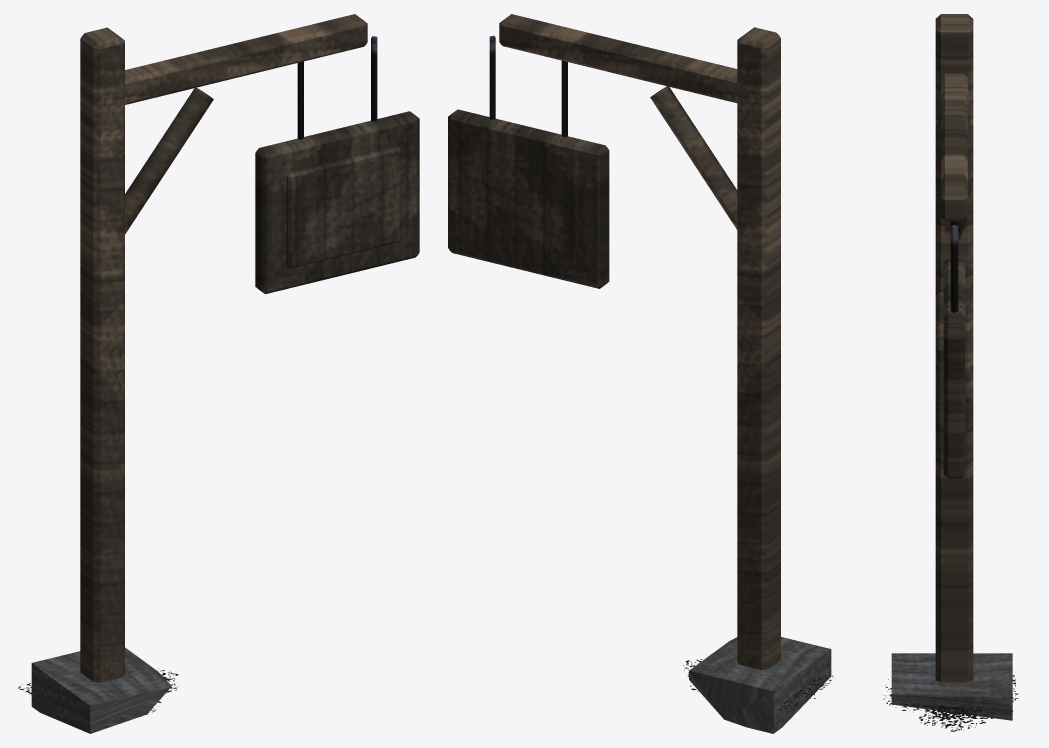
Rendered from signpost.glb.
The picture shows the model from 3 angles, left to right: view 1: azimuth 30°, elevation 25°; view 2: azimuth 150°, elevation 25°; view 3: azimuth 270°, elevation 25°; orthographic projection. The views are drawn at different scales.
Visible parts, largest first — view 1: signpost; view 2: signpost; view 3: signpost.
Boxes of the visible parts, left/top/right/bottom form: signpost: left=18, top=14, right=419, bottom=733; signpost: left=448, top=14, right=833, bottom=733; signpost: left=883, top=14, right=1018, bottom=731.
Bounding box in the file's own units: 1.36 × 2.24 × 0.468.
2 materials, 2 textured.
